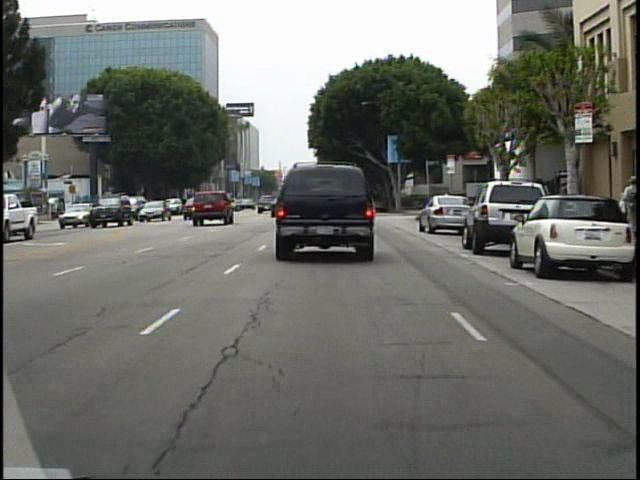person: (616, 172, 636, 236), (485, 176, 506, 222), (438, 186, 456, 225), (22, 200, 38, 227)
